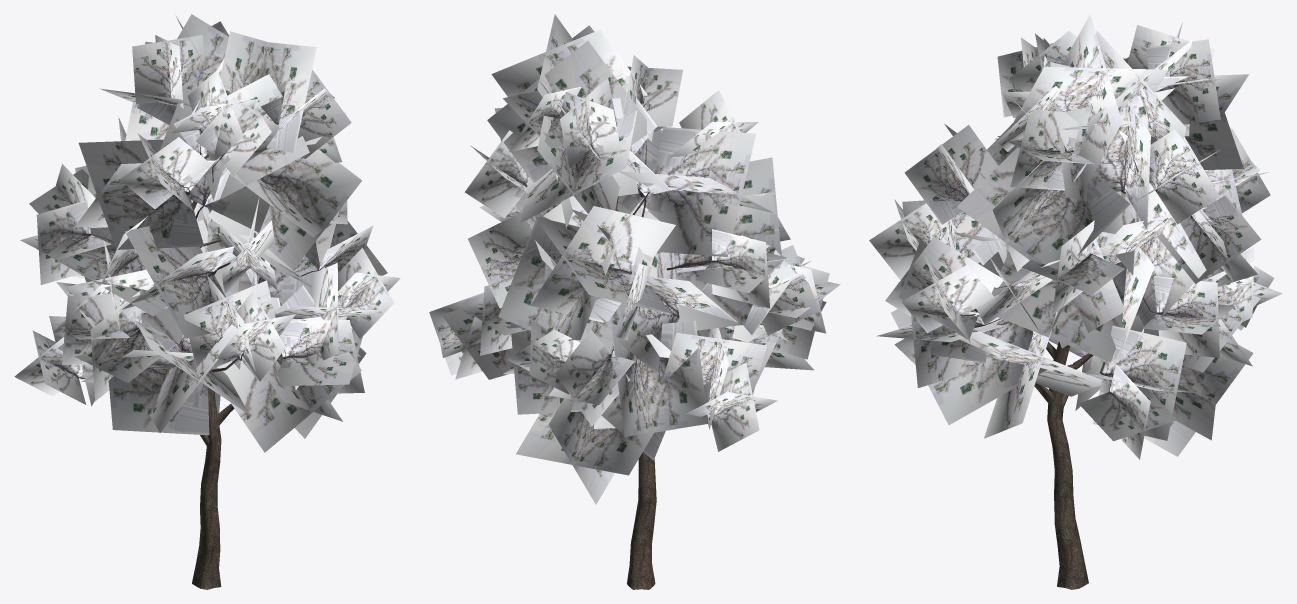
Rendered from TreeWaxCherry-white1.fbx.
3 renders of one model, left to right at view 1: azimuth 30°, elevation 25°; view 2: azimuth 150°, elevation 25°; view 3: azimuth 270°, elevation 25°, orthographic. The views are drawn at different scales.
Parts seen in each view (by area): view 1: TreeWaxCherry-white1_LOD0; view 2: TreeWaxCherry-white1_LOD0; view 3: TreeWaxCherry-white1_LOD0.
Boxes of the visible parts, x1,y1,x2,y2 form: TreeWaxCherry-white1_LOD0: (14,14,400,589); TreeWaxCherry-white1_LOD0: (429,14,840,589); TreeWaxCherry-white1_LOD0: (869,14,1282,589).
Size of what is drawn, in the model's own units: 447 by 669 by 428.
